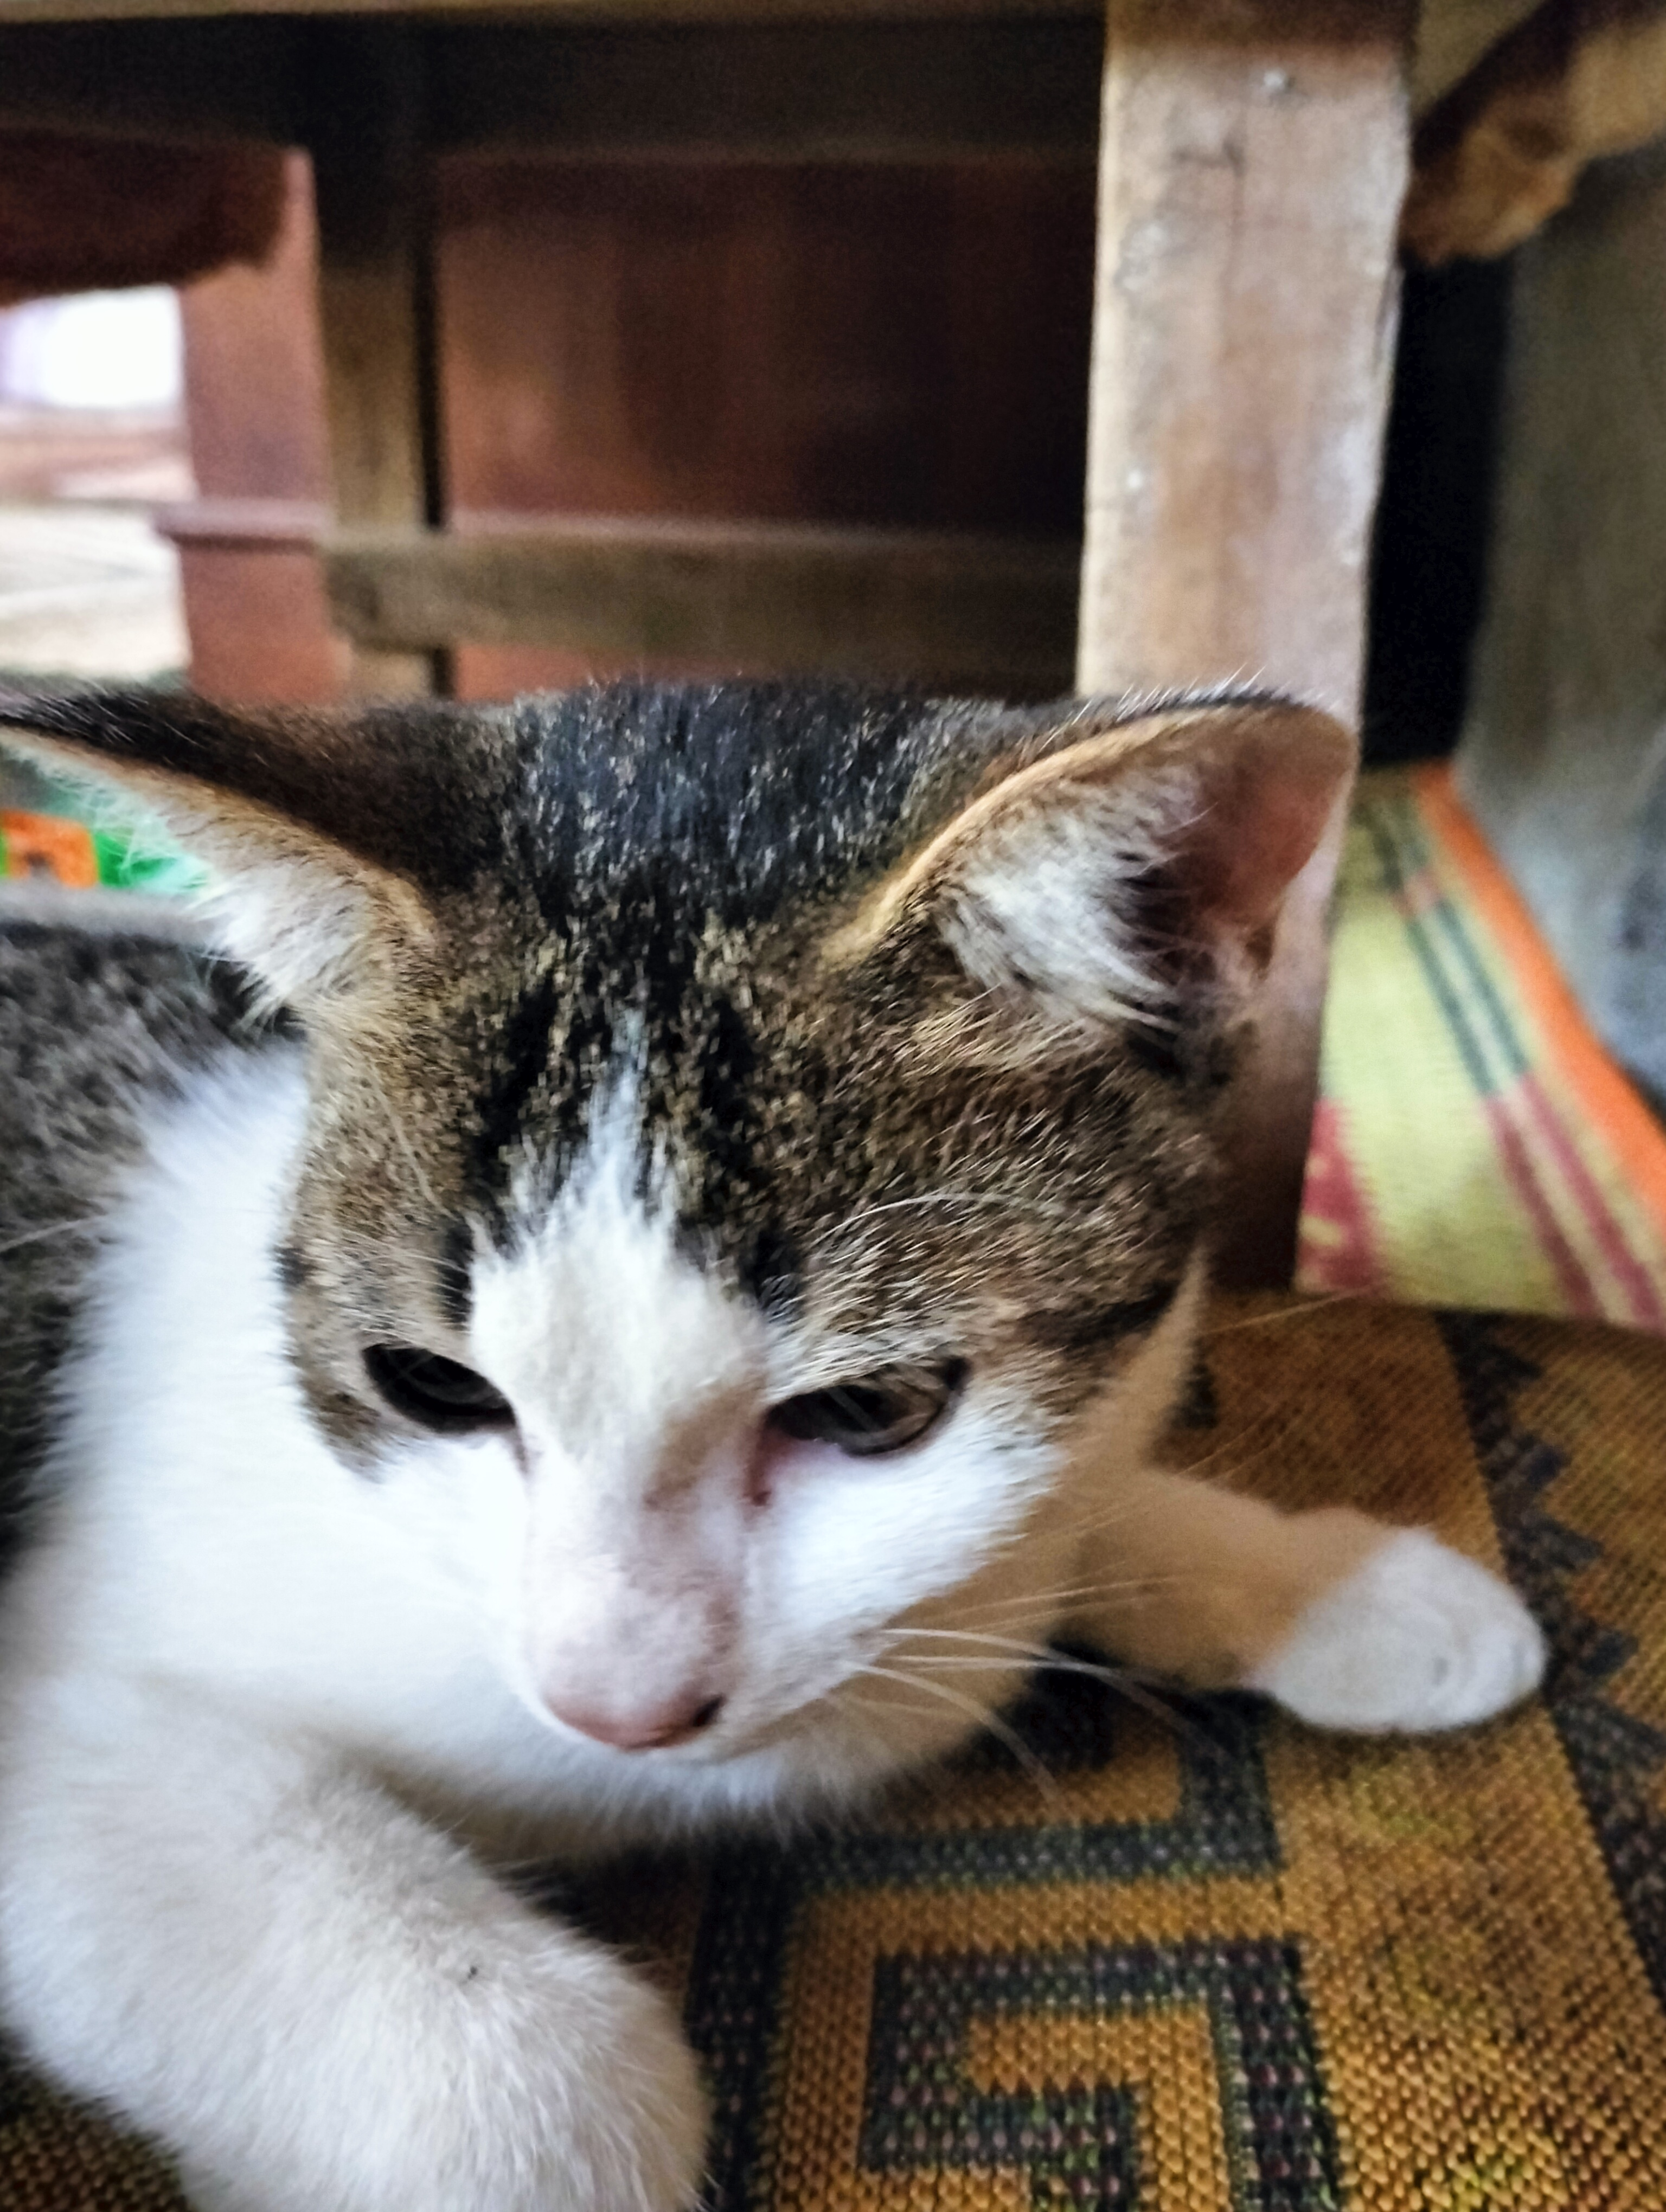miki: (17, 582, 1516, 1810)
